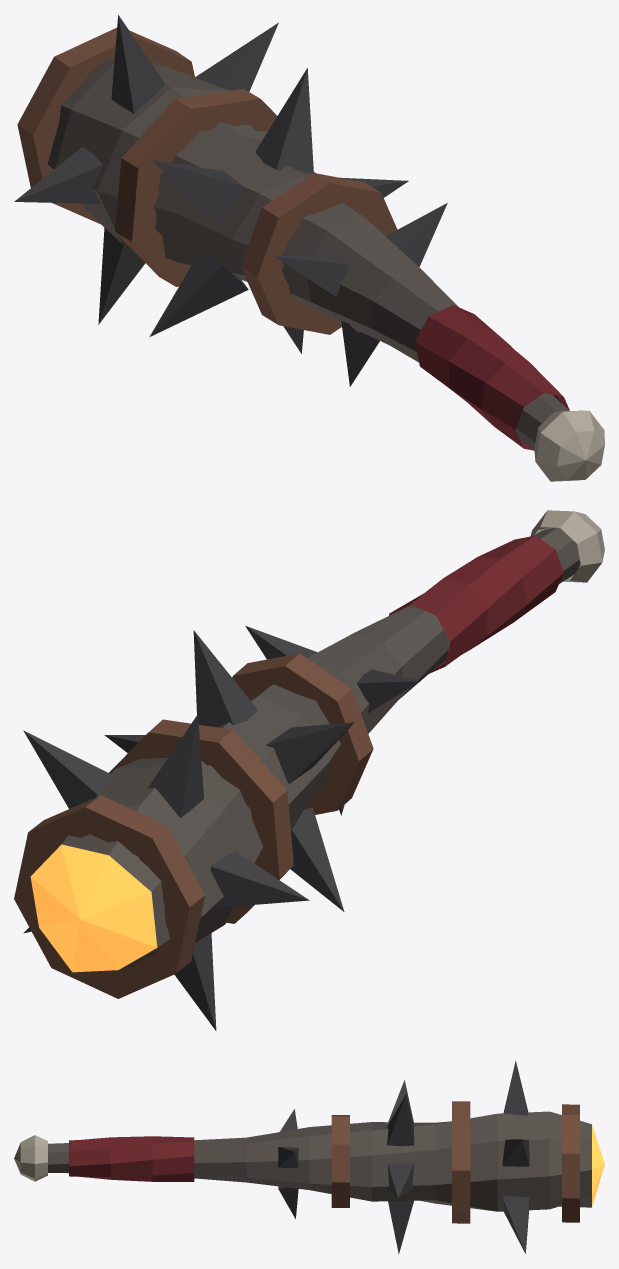
The model's file is held-club.glb.
3 renders of one model, top to bottom at view 1: azimuth 30°, elevation 25°; view 2: azimuth 150°, elevation 25°; view 3: azimuth 270°, elevation 25°, orthographic. The views are drawn at different scales.
Parts seen in each view (by area): view 1: log, spikes, band_2, grip_wrap, band_1, band_3, pommel; view 2: log, spikes, band_3, grip_wrap, band_2, band_1, pommel; view 3: log, spikes, grip_wrap, band_2, band_3, band_1, pommel.
Boxes of the visible parts, x1,y1,x2,y2 form: log: [47, 60, 569, 450]; spikes: [14, 15, 447, 386]; band_2: [115, 89, 277, 286]; grip_wrap: [415, 305, 569, 450]; band_1: [241, 173, 397, 334]; band_3: [17, 27, 194, 224]; pommel: [534, 410, 604, 481]; log: [30, 527, 580, 972]; spikes: [23, 625, 420, 1030]; band_3: [14, 795, 205, 998]; grip_wrap: [389, 535, 563, 673]; band_2: [109, 719, 293, 923]; band_1: [232, 653, 373, 814]; pommel: [530, 510, 604, 582]; log: [48, 1111, 604, 1211]; spikes: [278, 1060, 529, 1254]; grip_wrap: [69, 1136, 194, 1181]; band_2: [452, 1101, 470, 1223]; band_3: [562, 1104, 579, 1222]; band_1: [331, 1115, 349, 1207]; pommel: [14, 1135, 47, 1181].
Size of what is drawn, in the model's own units: 0.3893 by 0.3822 by 1.13.
